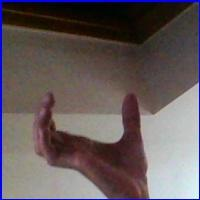space: (20, 81, 161, 189)
